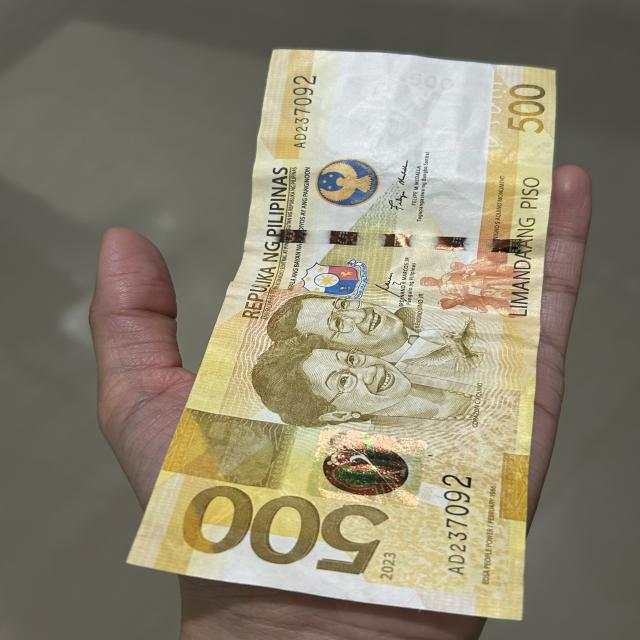concealed_value: (188, 415, 276, 487)
optically_variable_device: (323, 439, 411, 503)
security_thread: (261, 221, 532, 256)
see_through_mark: (482, 84, 511, 154)
serial_number: (440, 469, 474, 576), (282, 70, 320, 156)
value: (180, 481, 381, 582)
value_watermark: (400, 72, 460, 91)
watermark: (323, 69, 473, 161)
